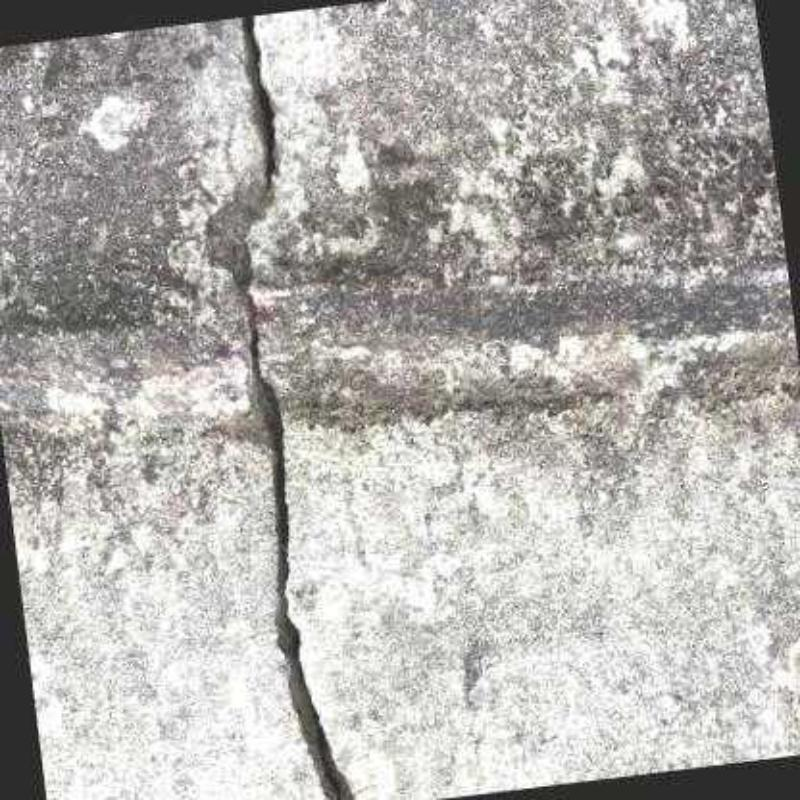pothole: (250, 330, 354, 796), (242, 13, 277, 194)
